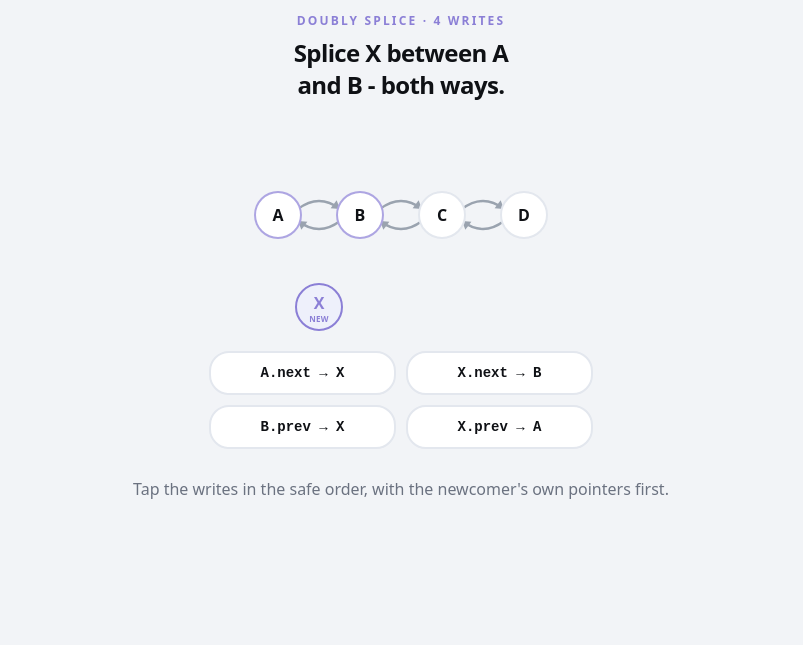
Scenario: LinkedListsStage - doubly splice › clears when the four writes are tapped in order; a wrong order nudges
The image size is (803, 645).
Click the button "A.next → X": (302, 373) top-left (209, 351), bottom-right (396, 395)
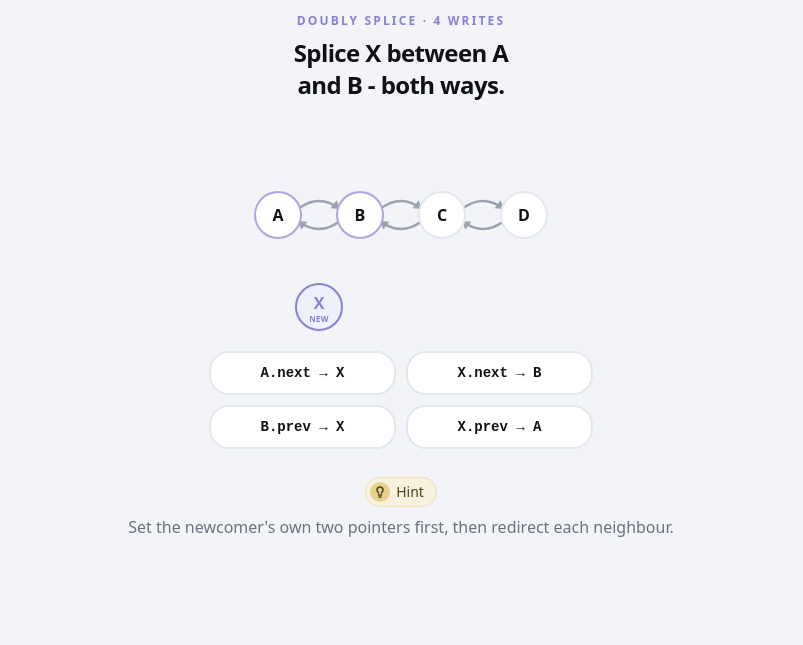
Expected: the button "Continue" is not shown
Click the button "X.next → B": (500, 373) top-left (406, 351), bottom-right (593, 395)
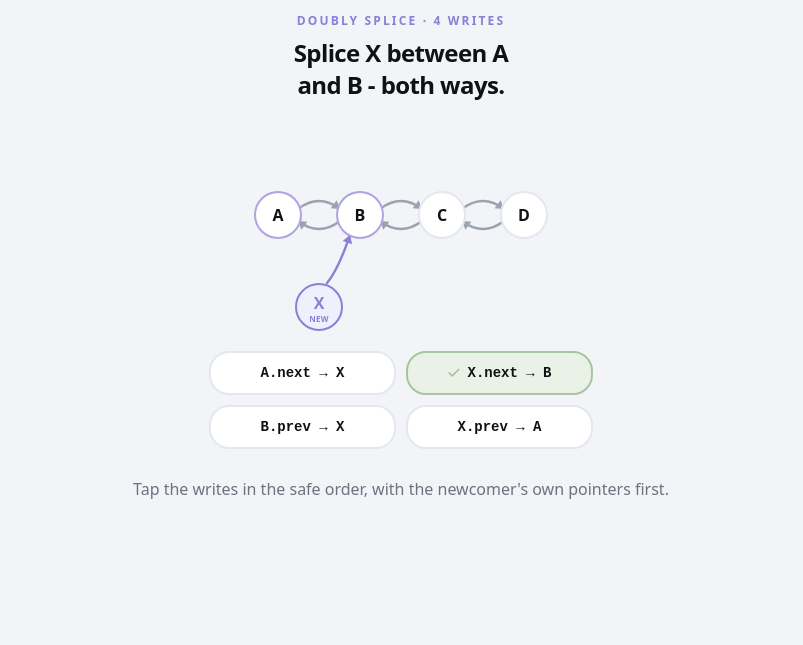
Click the button "X.prev → A": (500, 427) top-left (406, 405), bottom-right (593, 449)
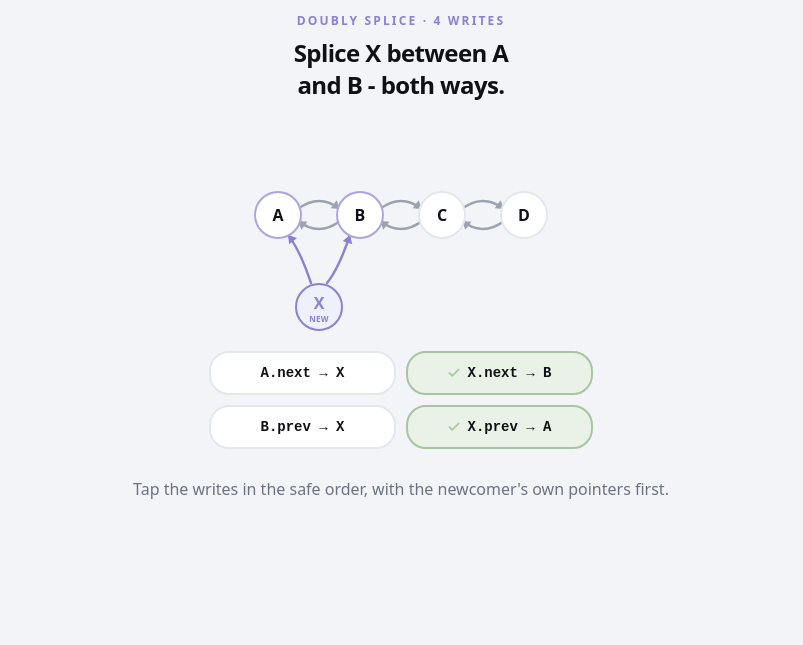
Click the button "A.next → X": (302, 373) top-left (209, 351), bottom-right (396, 395)
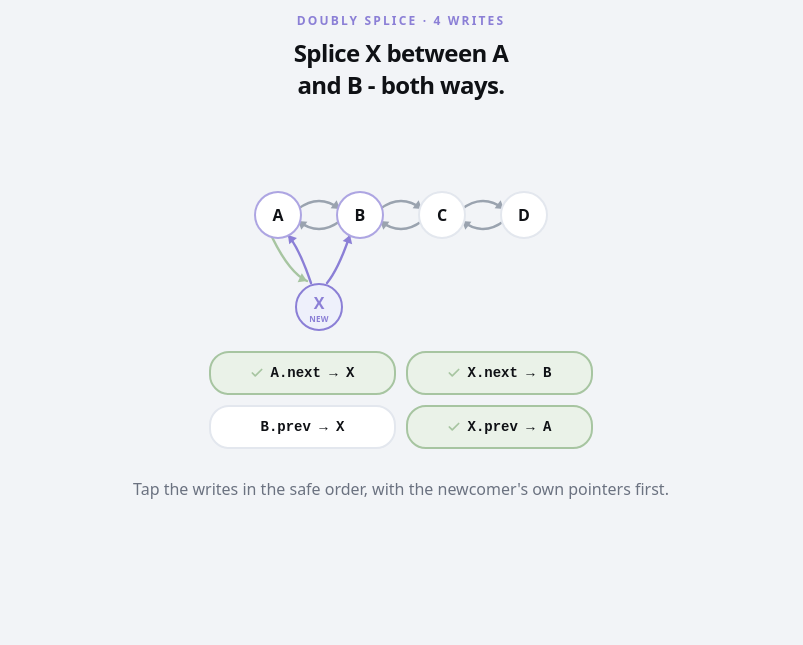
Click the button "B.prev → X": (302, 427) top-left (209, 405), bottom-right (396, 449)
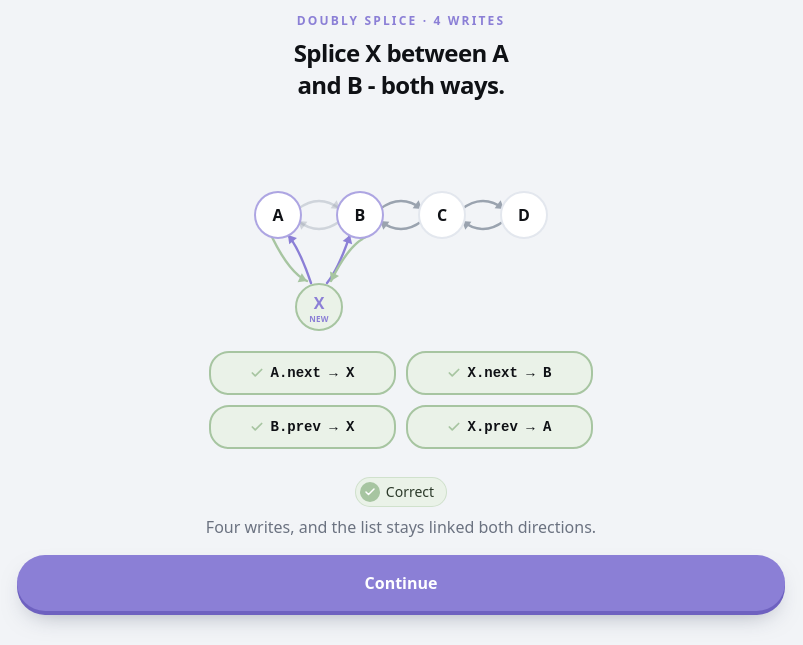
Now the button "Continue" is shown, box top-left (17, 555), bottom-right (785, 611)
